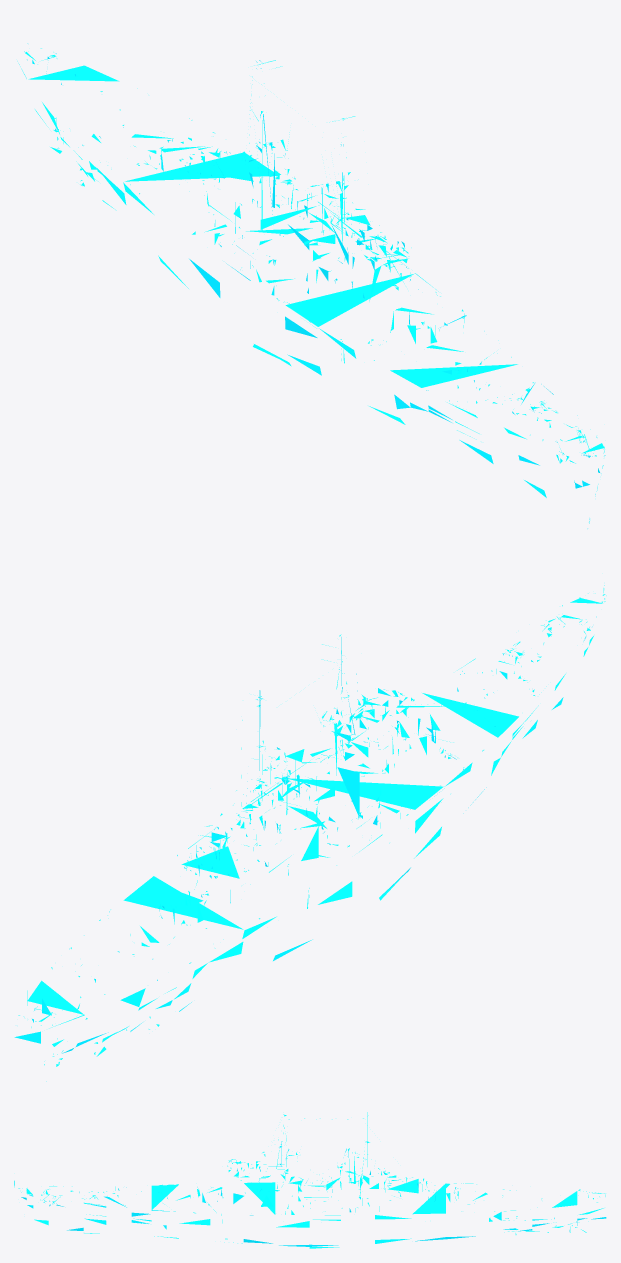
The model's file is Vanguard.glb.
The picture shows the model from 3 angles, top to bottom: view 1: azimuth 30°, elevation 25°; view 2: azimuth 150°, elevation 25°; view 3: azimuth 270°, elevation 25°; orthographic projection. The views are drawn at different scales.
Bounding box in the file's own units: 2.21 × 3.75 × 16.57.
